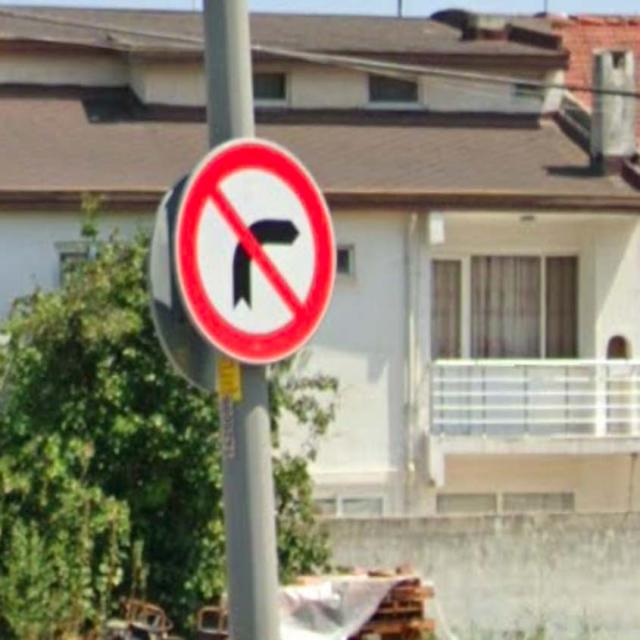sagadonulmez: (174, 137, 336, 363)
